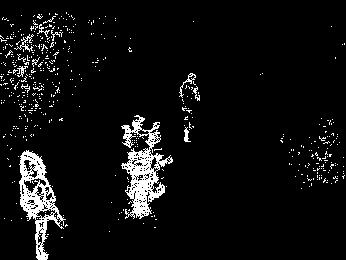person: (16, 148, 67, 259), (179, 68, 200, 144)
